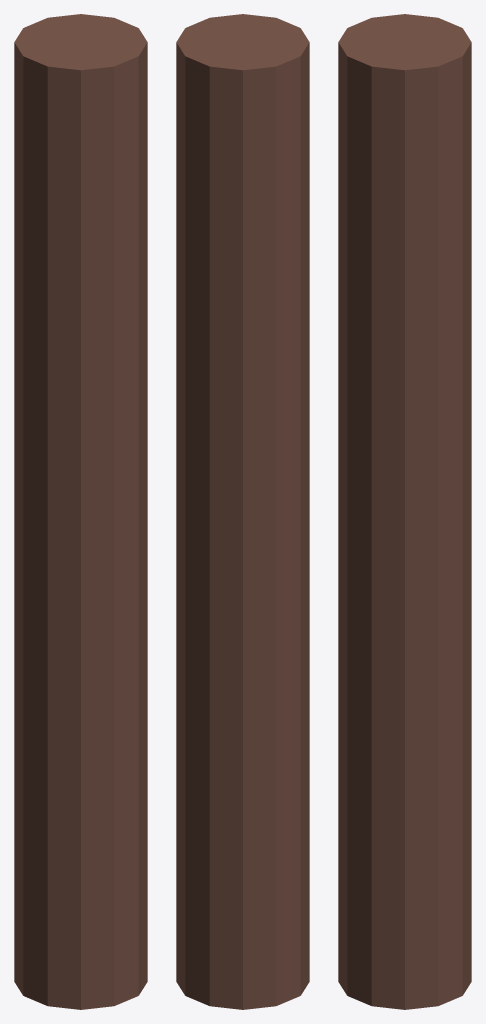
3 views of the same model, side by side, from view 1: azimuth 90°, elevation 25°; view 2: azimuth 150°, elevation 25°; view 3: azimuth 270°, elevation 25° (orthographic).
Parts seen in each view (by area): view 1: mesh_1373352736; view 2: mesh_1373352736; view 3: mesh_1373352736.
Part boxes in pixels (x1=…): mesh_1373352736: x1=14, y1=14, x2=147, y2=1009; mesh_1373352736: x1=176, y1=14, x2=309, y2=1009; mesh_1373352736: x1=338, y1=14, x2=471, y2=1009.
Size of the model in its own units: 68 by 529 by 68.
